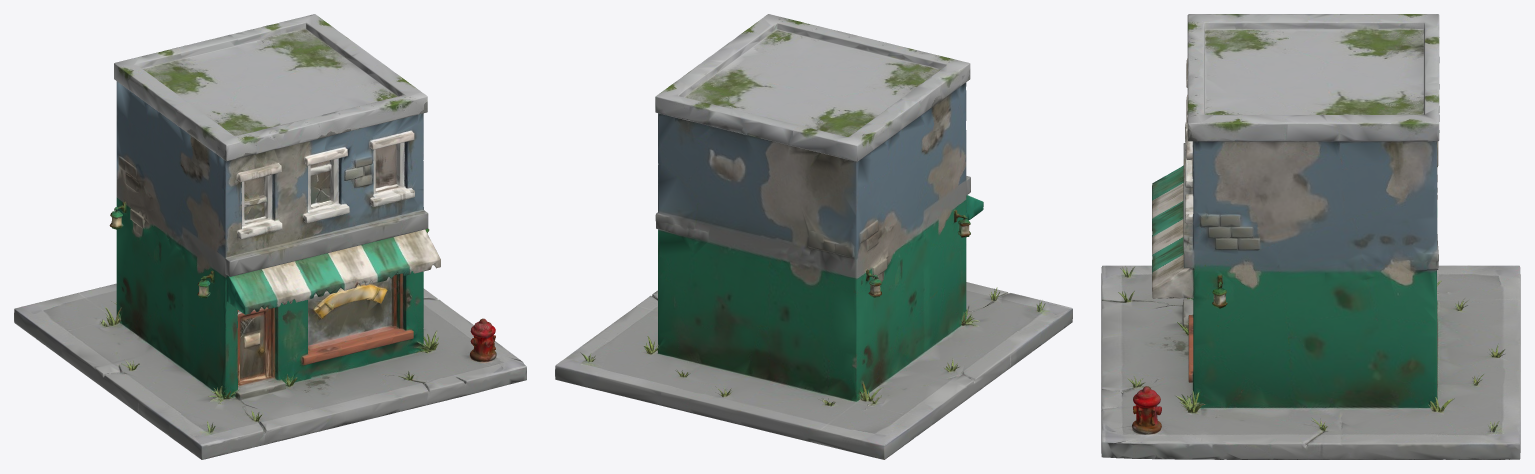
The model's file is Building_A_Dilapidated_Player.glb.
3 renders of one model, left to right at view 1: azimuth 30°, elevation 25°; view 2: azimuth 150°, elevation 25°; view 3: azimuth 270°, elevation 25°, orthographic. The views are drawn at different scales.
Bounding box in the file's own units: 1.9 × 1.5 × 1.88.
1 material, 1 textured.
